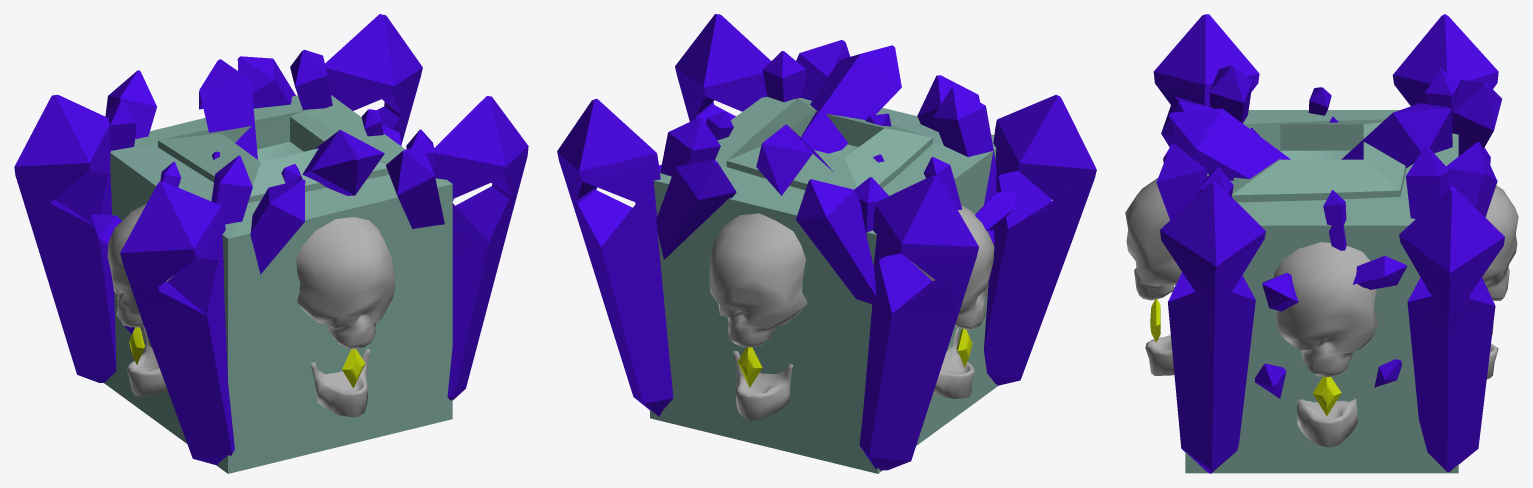
File: Laser_Dispenser_V1.fbx
The picture shows the model from 3 angles, left to right: view 1: azimuth 30°, elevation 25°; view 2: azimuth 150°, elevation 25°; view 3: azimuth 270°, elevation 25°; orthographic projection. The views are drawn at different scales.
Visible parts, largest first — view 1: Crystals_Low, Base_Low, Skull_Low, LaserCrystals_Low; view 2: Crystals_Low, Base_Low, Skull_Low, LaserCrystals_Low; view 3: Crystals_Low, Base_Low, Skull_Low, LaserCrystals_Low.
Part boxes in pixels (x1,y1,x2,y2): Crystals_Low: [14, 14, 528, 465]; Base_Low: [104, 95, 452, 473]; Skull_Low: [107, 203, 395, 417]; LaserCrystals_Low: [129, 327, 365, 388]; Crystals_Low: [557, 14, 1096, 470]; Base_Low: [650, 97, 998, 473]; Skull_Low: [709, 205, 994, 420]; LaserCrystals_Low: [737, 328, 972, 387]; Crystals_Low: [1153, 14, 1504, 473]; Base_Low: [1185, 110, 1458, 473]; Skull_Low: [1125, 178, 1518, 447]; LaserCrystals_Low: [1150, 299, 1493, 415].
Bounding box in the file's own units: 4.4 × 3.03 × 3.41.
